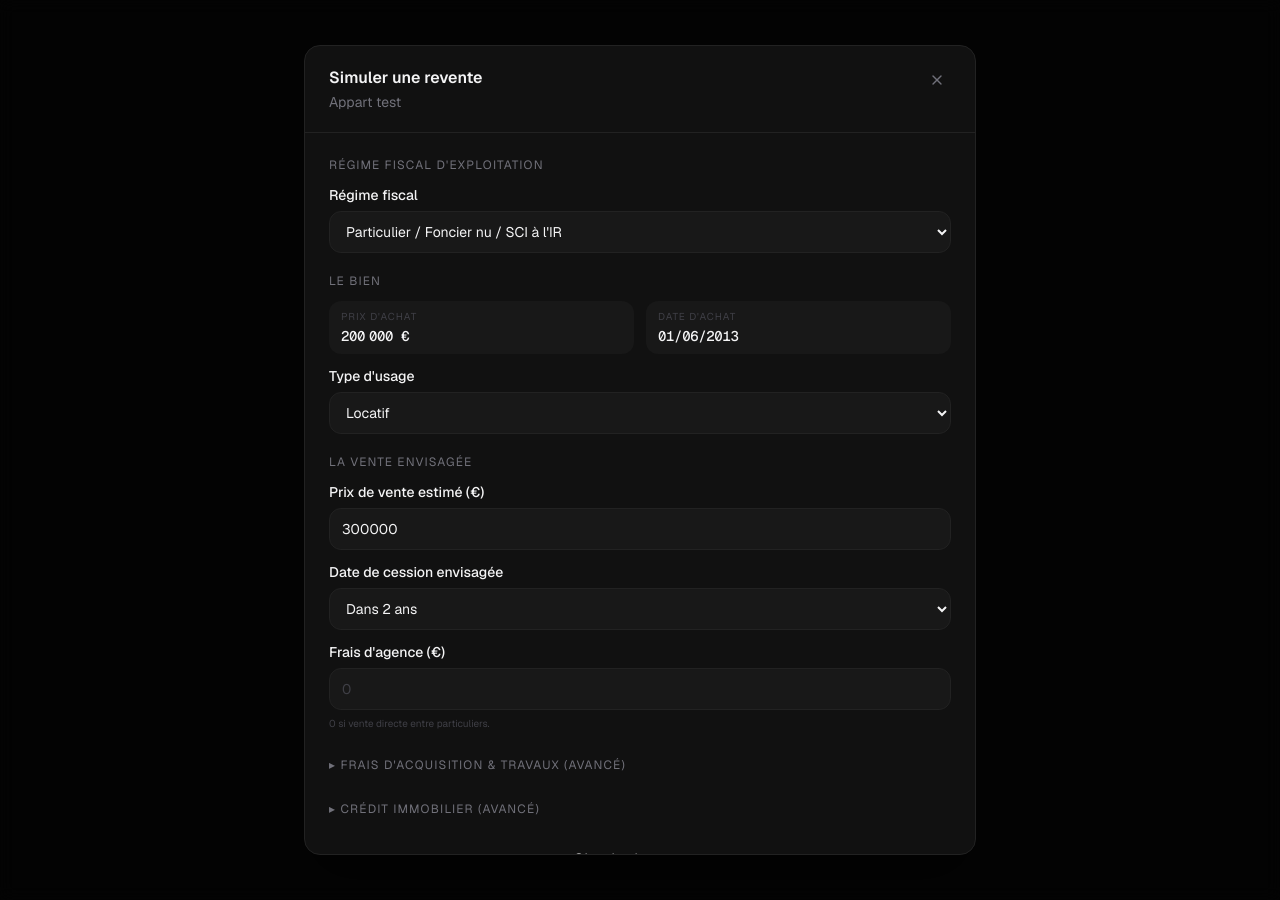
<SimulationReventeModal> — crédit immobilier (CRD + IRA) › Section crédit présente dans le formulaire (accordéon)
Expected: the field labelled "Capital emprunté" is not shown
Step 1. Click the button "▸ Crédit immobilier (avancé)" → (438, 809), box [329, 801, 951, 817]
(page scrolled)
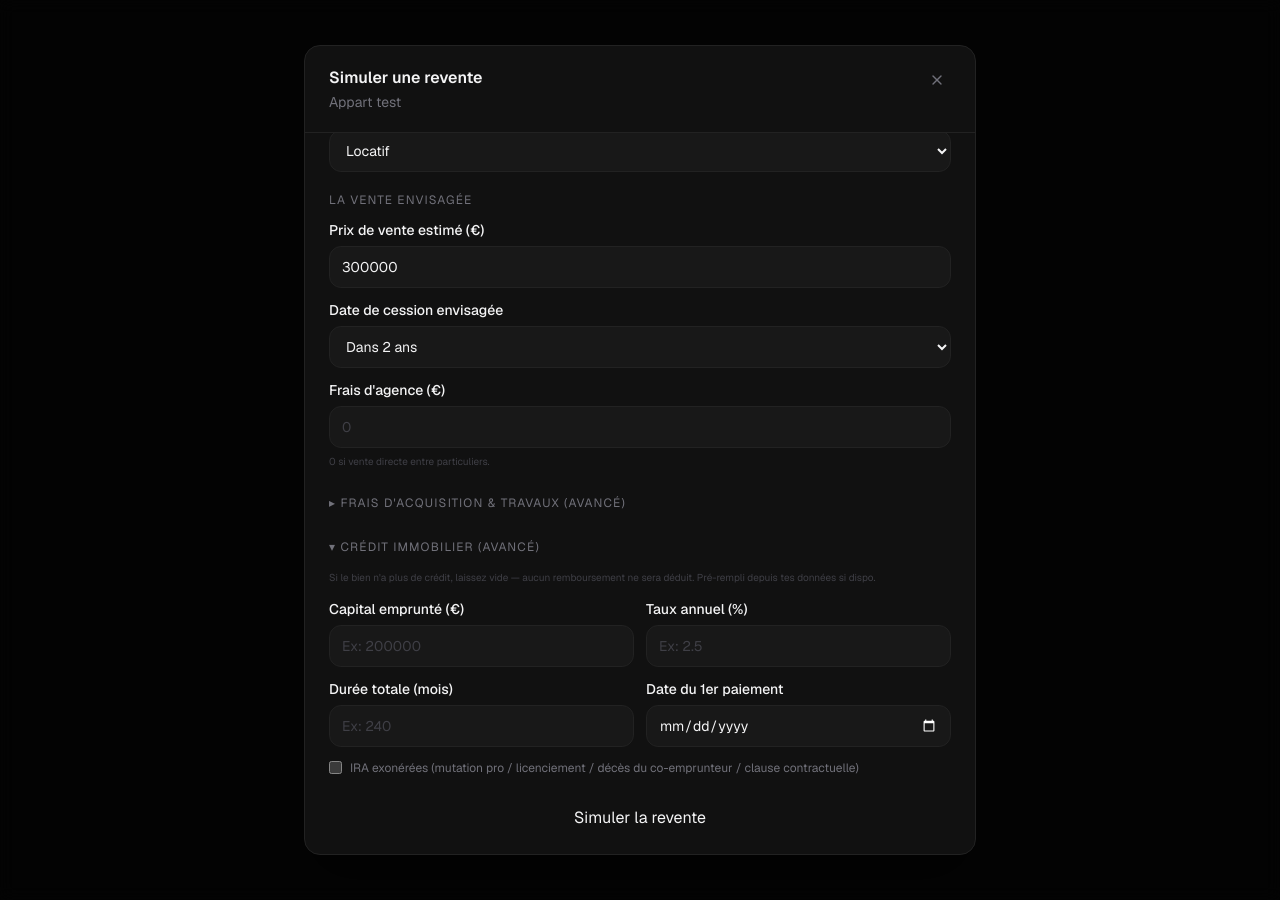
Expected: the number field labelled "Capital emprunté (€)" is shown, [329, 624, 634, 666]
Expected: the number field labelled "Taux annuel (%)" is shown, [646, 624, 951, 666]
Expected: the number field labelled "Durée totale (mois)" is shown, [329, 704, 634, 746]
